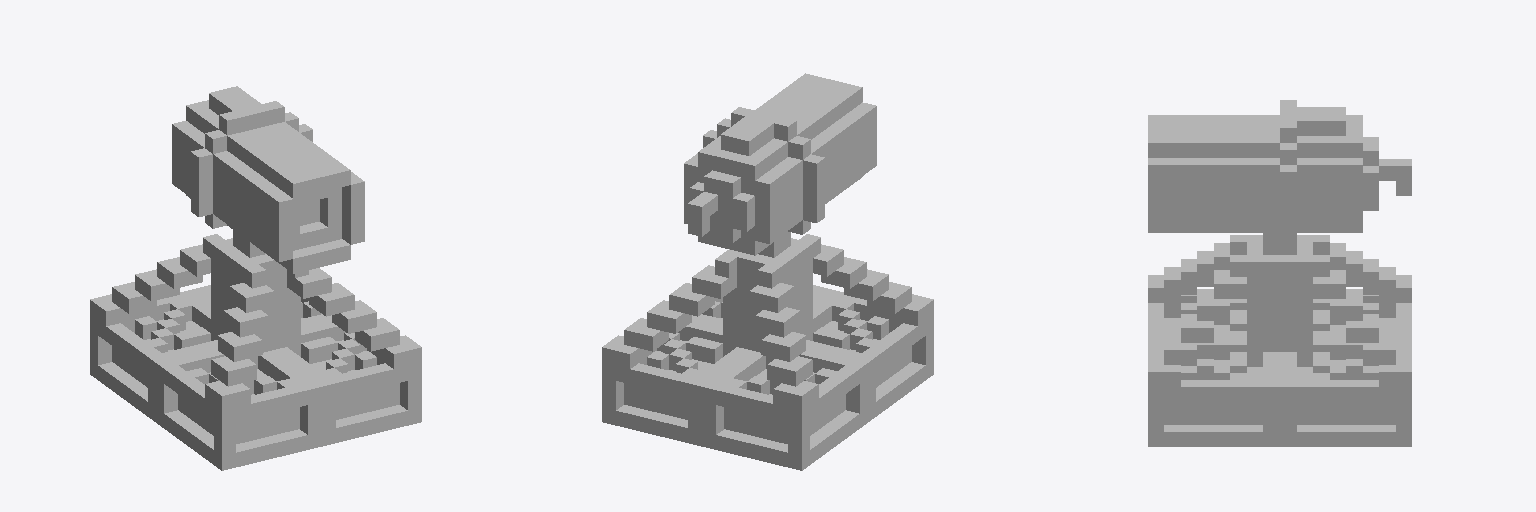
File: Pirate Tower forwards.obj
The picture shows the model from 3 angles: view 1: azimuth 30°, elevation 25°; view 2: azimuth 150°, elevation 25°; view 3: azimuth 270°, elevation 25°; orthographic projection.
Visible parts, largest first — view 1: object 1; view 2: object 1; view 3: object 1.
Boxes of the visible parts, x1=… form: object 1: x1=90, y1=86, x2=421, y2=470; object 1: x1=602, y1=73, x2=933, y2=470; object 1: x1=1148, y1=100, x2=1411, y2=446.
Size of the model in its own units: 1.4 by 1.9 by 1.6.